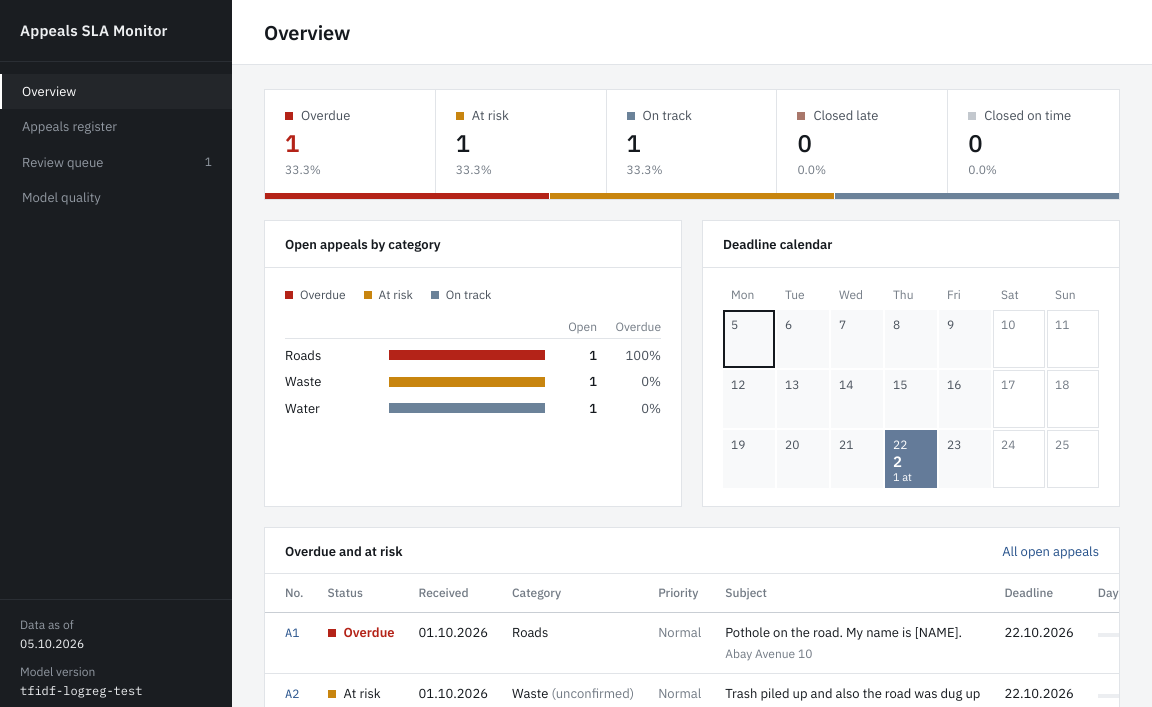
App › drills down from a KPI into the filtered register
What coordinates should you click on to do the following:
click the button "On track 1 33.3%"
I would click on:
 (692, 142)
Its box is [607,90,777,193].
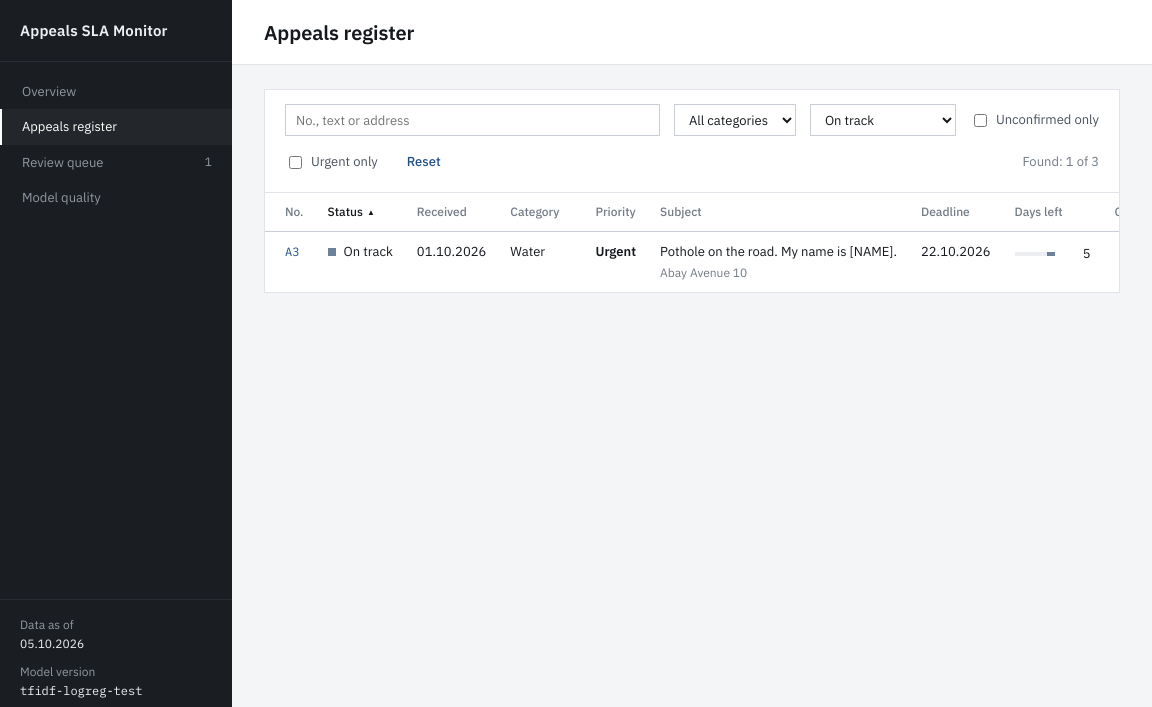
Expected: the heading "Appeals register" is shown, [264,18,414,48]
Expected: the text "Found: 1 of 3" is shown, [1022,152,1099,172]
